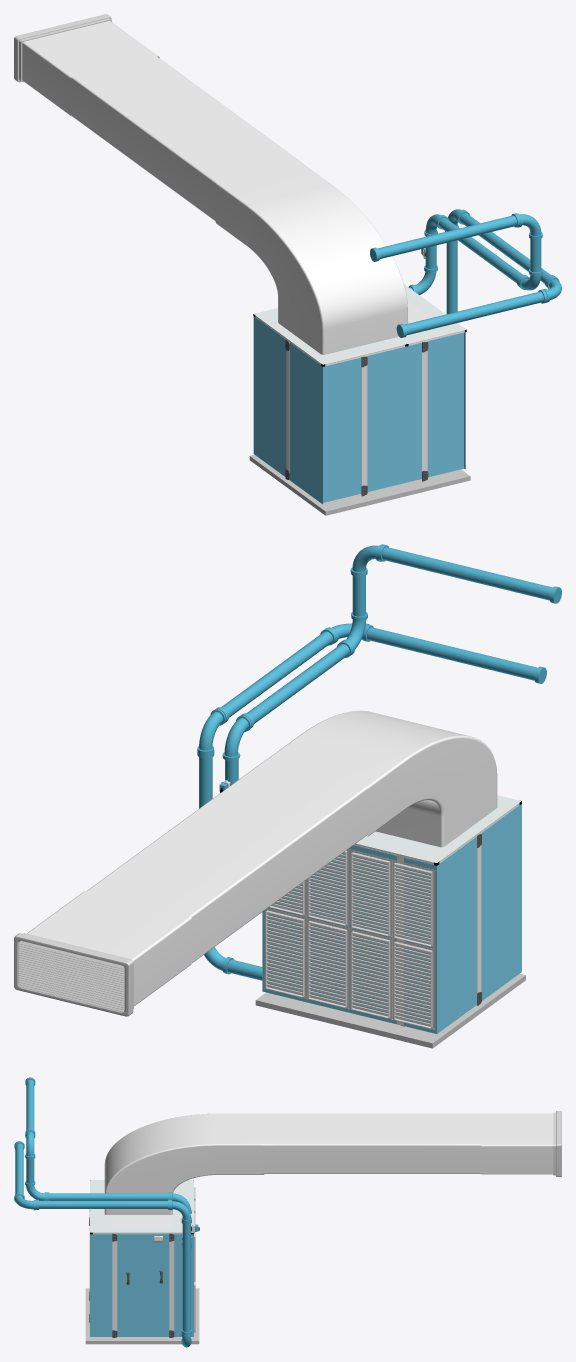
File: ahu_2.glb
The picture shows the model from 3 angles, top to bottom: view 1: azimuth 30°, elevation 25°; view 2: azimuth 150°, elevation 25°; view 3: azimuth 270°, elevation 25°; orthographic projection. The views are drawn at different scales.
Visible parts, largest first — view 1: Sketchfab_model_air_duct_vertical_90, Plane__3_, Sketchfab_model_air_duct_I__3_, Plane__2_, Sketchfab_model_air_duct_I__1_, Group_912__1_, pipe_col_2__8_, pipe_col_2__7_, Group_617_1, Sketchfab_model_air_duct_side_cap, Group_617, pipe_col_2__5_ (+4 smaller); view 2: Sketchfab_model_air_duct_I__3_, model_0, Sketchfab_model_air_duct_vertical_90, Plane__2_, Sketchfab_model_air_duct_I__1_, Group_811__1_, Sketchfab_model_air_duct_side_cap, Group_912__1_, pipe_col_2__7_, pipe_col_2__8_, Group_617_1, pipe_col_2__4_ (+7 smaller); view 3: Sketchfab_model_air_duct_I__3_, Sketchfab_model_air_duct_vertical_90, Plane__1_, Sketchfab_model_air_duct_I__1_, Group_912__1_, pipe_col_2__4_, Group_617, pipe_col_2__2_, pipe_col_2__5_, Group_587, Group_617_1, Sketchfab_model_air_duct_side_cap (+4 smaller).
Boxes of the visible parts, x1,y1,x2,y2 form: Sketchfab_model_air_duct_vertical_90: [215, 162, 407, 354]; Plane__3_: [323, 332, 463, 502]; Sketchfab_model_air_duct_I__3_: [71, 56, 303, 221]; Plane__2_: [253, 316, 322, 504]; Sketchfab_model_air_duct_I__1_: [22, 21, 159, 116]; Group_912__1_: [249, 454, 470, 515]; pipe_col_2__8_: [396, 289, 547, 337]; pipe_col_2__7_: [370, 213, 521, 261]; Group_617_1: [254, 308, 406, 364]; Sketchfab_model_air_duct_side_cap: [14, 14, 112, 82]; Group_617: [397, 284, 465, 343]; pipe_col_2__5_: [435, 215, 527, 287]; Sketchfab_model_air_duct_I__3_: [86, 760, 367, 962]; model_0: [264, 849, 435, 1030]; Sketchfab_model_air_duct_vertical_90: [265, 710, 497, 847]; Plane__2_: [437, 804, 521, 1033]; Sketchfab_model_air_duct_I__1_: [27, 891, 191, 1006]; Group_811__1_: [262, 845, 438, 1033]; Sketchfab_model_air_duct_side_cap: [14, 933, 133, 1016]; Group_912__1_: [255, 973, 525, 1048]; pipe_col_2__7_: [377, 544, 561, 603]; pipe_col_2__8_: [362, 624, 546, 683]; Group_617_1: [356, 795, 520, 862]; pipe_col_2__4_: [215, 628, 336, 723]; Sketchfab_model_air_duct_I__3_: [261, 1113, 481, 1173]; Sketchfab_model_air_duct_vertical_90: [104, 1113, 264, 1214]; Plane__1_: [90, 1234, 193, 1336]; Sketchfab_model_air_duct_I__1_: [480, 1113, 553, 1174]; Group_912__1_: [85, 1288, 199, 1344]; pipe_col_2__4_: [35, 1199, 170, 1209]; Group_617: [90, 1210, 193, 1232]; pipe_col_2__2_: [181, 1220, 191, 1335]; pipe_col_2__5_: [46, 1192, 170, 1200]; Group_587: [112, 1216, 172, 1227]; Group_617_1: [90, 1180, 193, 1210]; Sketchfab_model_air_duct_side_cap: [553, 1111, 561, 1176].
Size of the model in its own units: 4.95 by 6.87 by 15.66.
